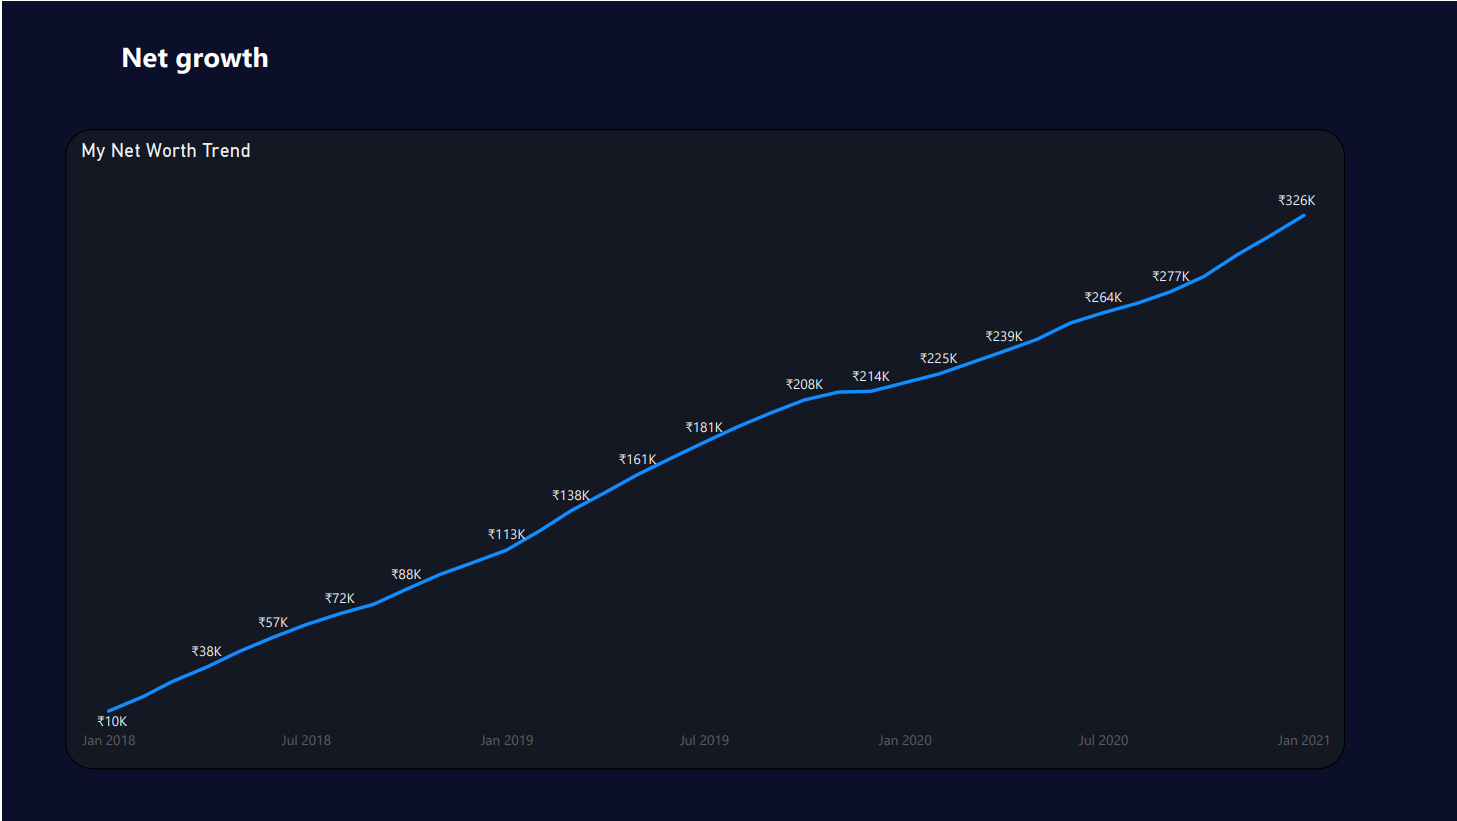

The dashboard page shown, as its layout file describes it:
{"tool":"powerbi","page":{"name":"Net growth","canvas":[1280,720],"ordinal":3},"visuals":[{"type":"lineChart","title":"My Net Worth Trend","fields":{"Category":["FinData.Date"],"Y":["Key Measures.Cumulative Net Worth"]},"box":[54.7,111.6,1122.1,562.8],"z":0},{"type":"textbox","box":[98.8,26.7,300,46.5],"z":1000}]}

Visuals, with their boxes in screenshot pixels (x1, y1, x2, y2), scaled from the page's 1280x720 canvas onto the 1457x821 screenshot:
"My Net Worth Trend" lineChart: box=[62, 127, 1340, 769]
textbox: box=[112, 30, 454, 83]
